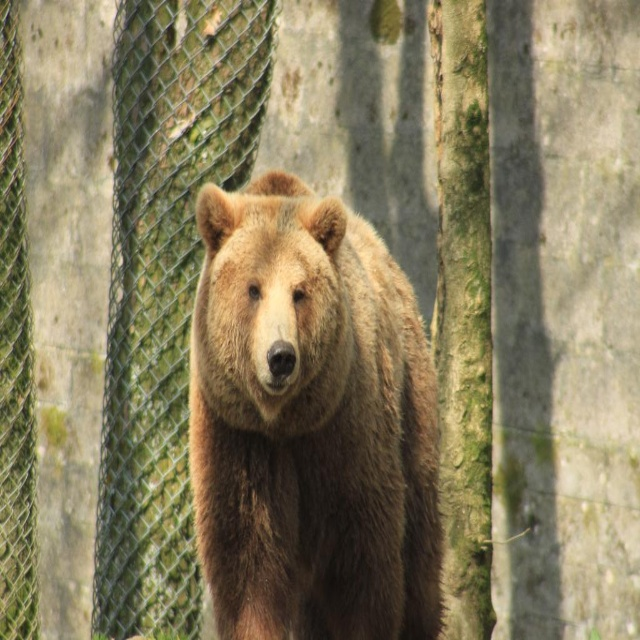Brown bear: (187, 165, 448, 639)
